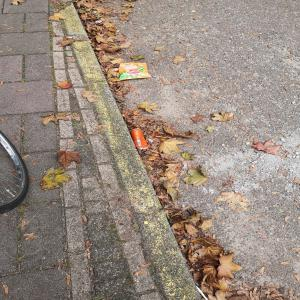Can: (129, 127, 152, 154)
Trash: (116, 61, 157, 85)
